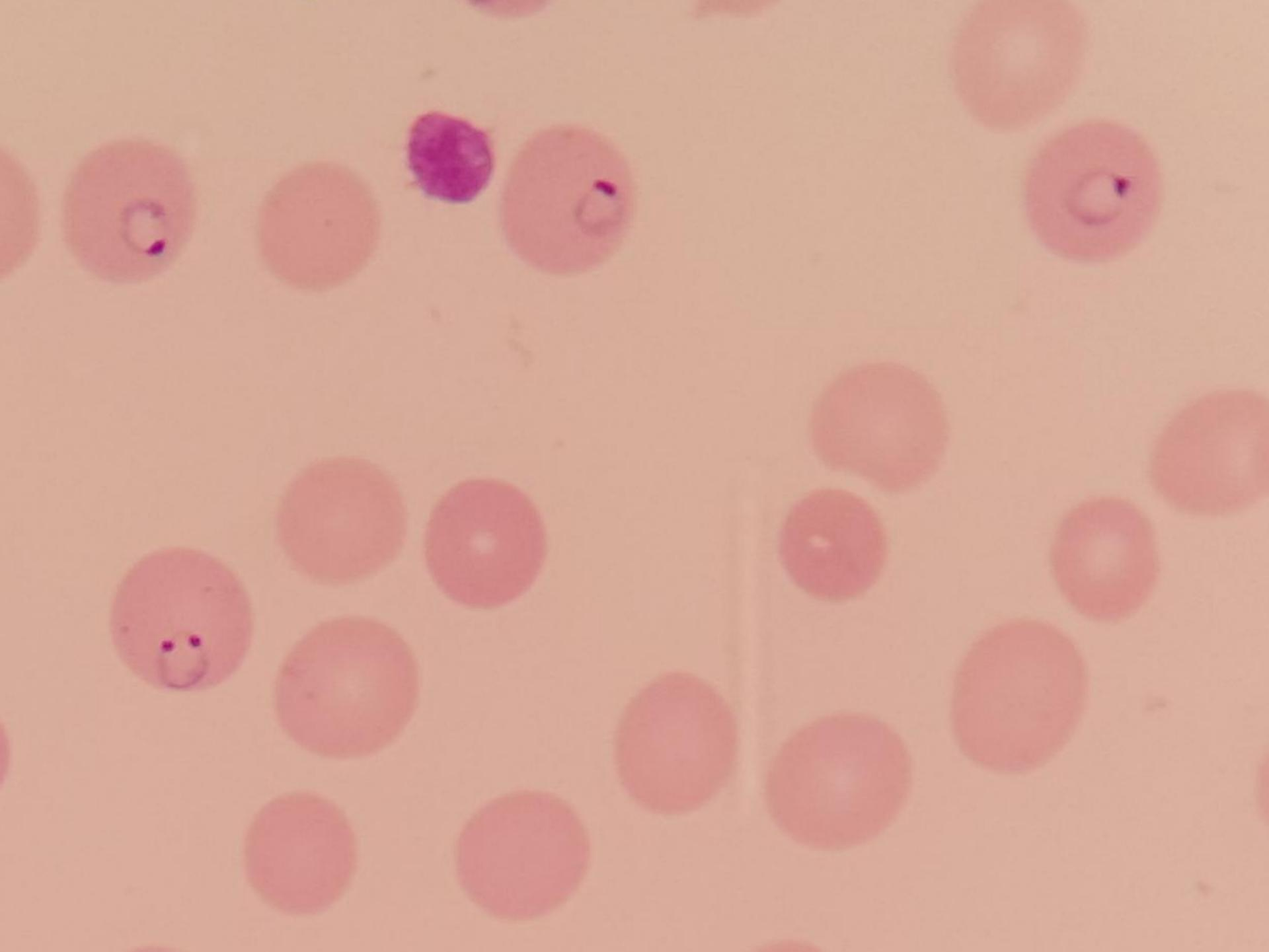Infected: (53, 133, 197, 287), (1018, 106, 1162, 260), (106, 549, 261, 692), (493, 122, 630, 278)
Uninfected: (269, 611, 417, 757), (947, 615, 1081, 773), (447, 787, 596, 929), (617, 666, 737, 826), (771, 712, 914, 842), (806, 364, 941, 501), (256, 155, 386, 295), (416, 474, 545, 613), (273, 454, 407, 582), (947, 5, 1082, 128), (1152, 382, 1266, 523), (1044, 492, 1160, 627), (769, 481, 886, 611), (245, 787, 357, 917)
